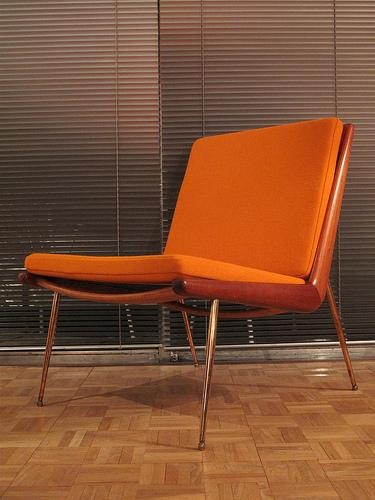obstacle: (25, 118, 355, 448)
